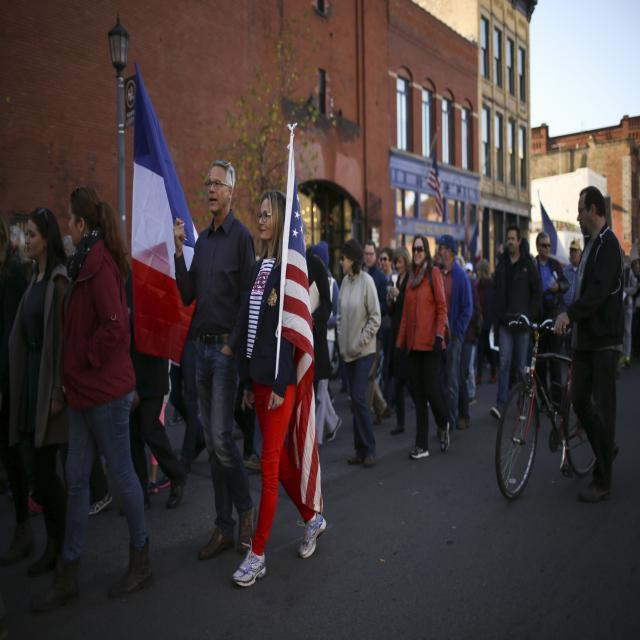body: (24, 184, 154, 614), (229, 190, 328, 590), (172, 160, 258, 564), (6, 206, 74, 580), (552, 183, 626, 503), (104, 240, 187, 512), (391, 232, 451, 460), (488, 223, 546, 423), (335, 238, 382, 470), (1, 208, 34, 536), (456, 245, 504, 434), (434, 233, 474, 442), (530, 230, 571, 413), (309, 239, 343, 450), (384, 244, 416, 437), (299, 216, 334, 383), (361, 238, 392, 423), (158, 357, 208, 468), (233, 376, 259, 476), (622, 235, 640, 370), (85, 442, 112, 514), (562, 238, 582, 308), (147, 453, 169, 494), (377, 238, 398, 280), (378, 357, 393, 401), (522, 235, 539, 258), (62, 233, 76, 258), (432, 240, 442, 267)
